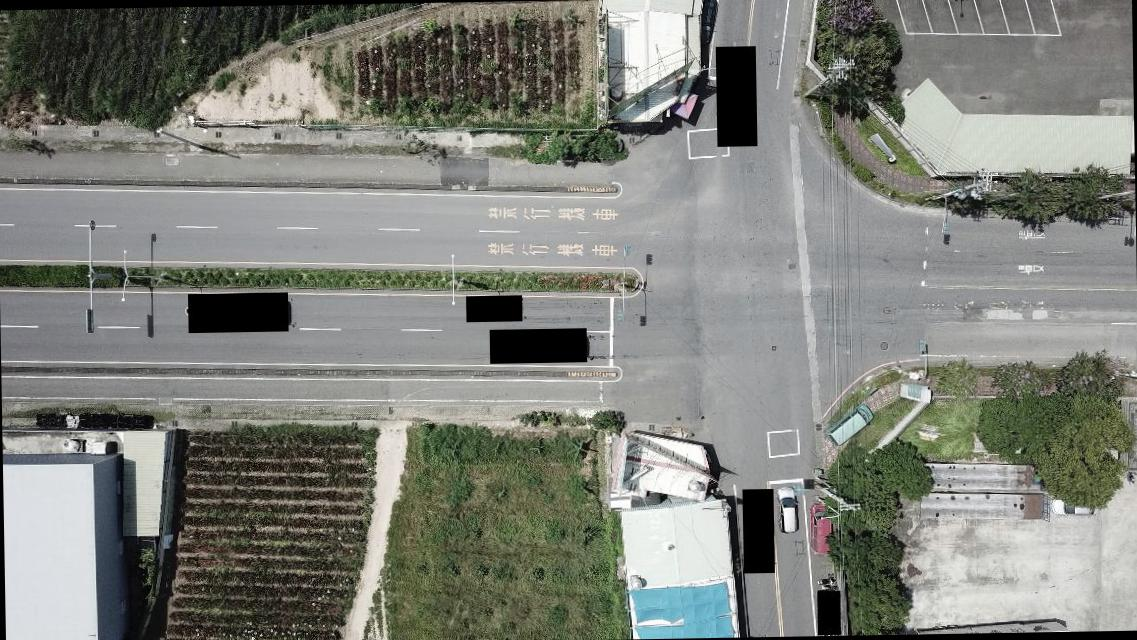vehicle: (826, 402, 876, 446), (809, 502, 836, 554), (1050, 492, 1102, 516), (696, 0, 721, 46), (776, 485, 799, 534)
